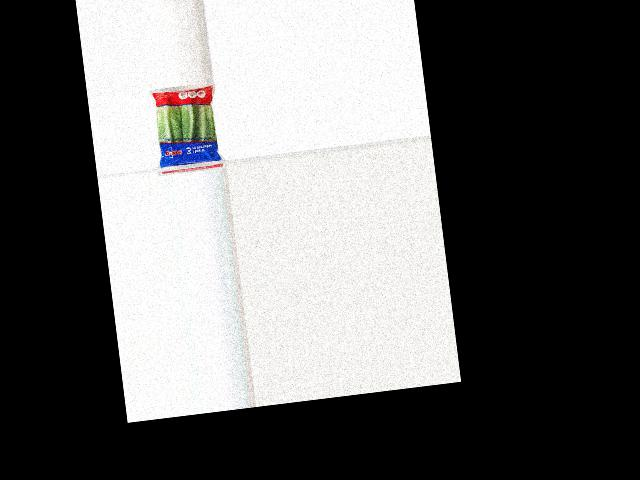lettuce: (147, 82, 222, 171)
